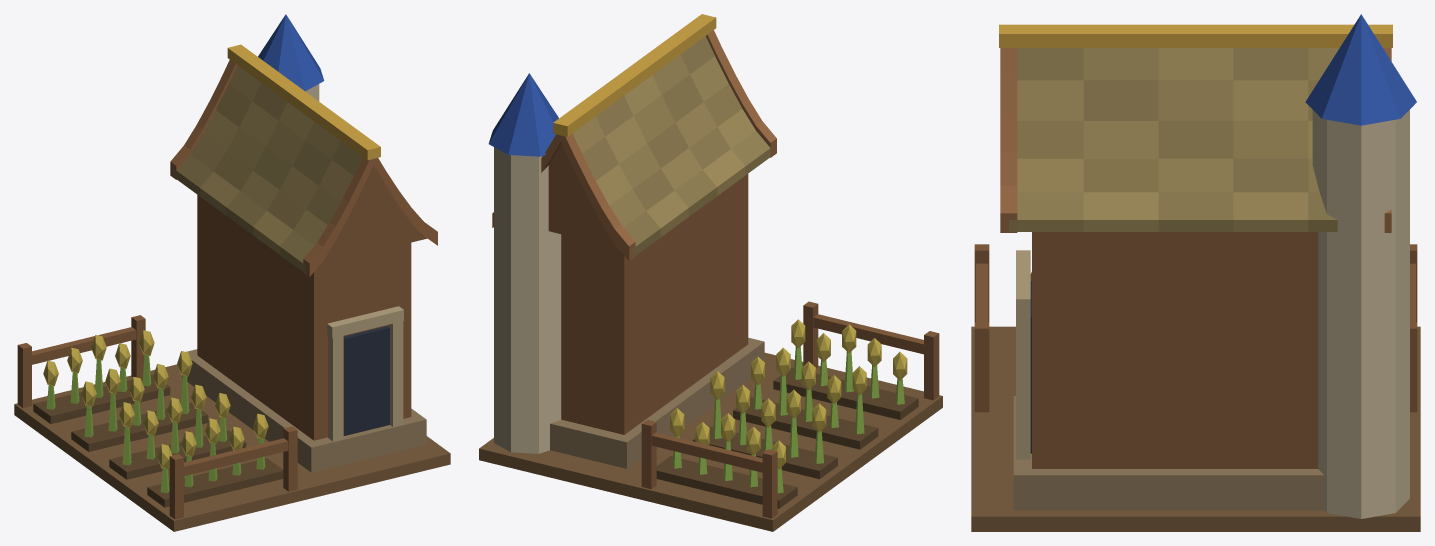
Rendered from farm_t2.glb.
3 views of the same model, side by side, from view 1: azimuth 30°, elevation 25°; view 2: azimuth 150°, elevation 25°; view 3: azimuth 270°, elevation 25° (orthographic). The views are drawn at different scales.
Visible parts, largest first — view 1: body; view 2: body; view 3: body.
Boxes of the visible parts, <box> form: body: <box>14,14,450,531</box>; body: <box>479,14,942,531</box>; body: <box>971,14,1420,531</box>.
Bounding box in the file's own units: 1.91 × 2.27 × 1.85.
